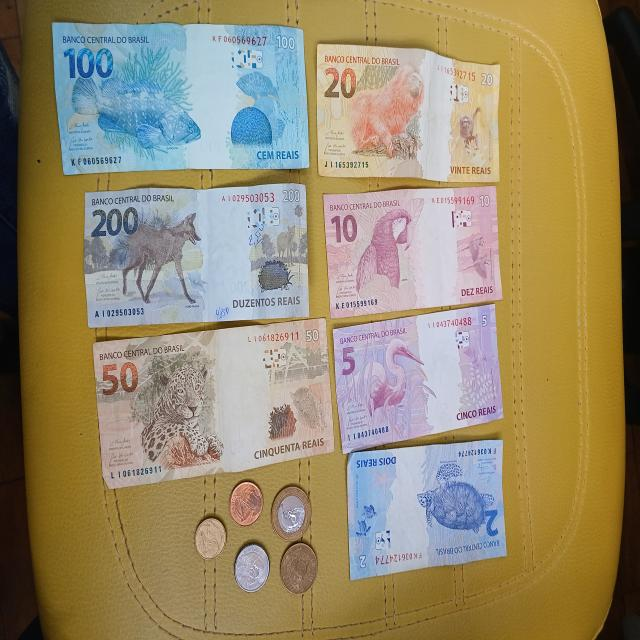1 real: (269, 483, 312, 542)
25 cents: (278, 543, 319, 596)
50 cents: (234, 544, 270, 594)
